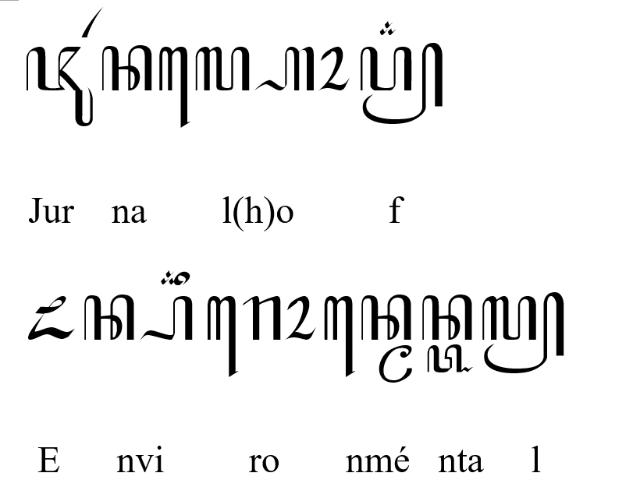-l: (481, 292, 565, 374)
-p: (359, 42, 443, 126)
E: (27, 296, 75, 340)
_h: (253, 46, 314, 92)
_m: (378, 344, 412, 383)
_p: (141, 296, 193, 342)
_r1: (81, 6, 103, 38)
_t: (426, 344, 474, 374)
alt: (379, 20, 397, 36), (160, 270, 177, 286)
e1: (158, 45, 192, 129), (207, 296, 239, 378), (324, 296, 356, 378)
i: (174, 271, 190, 287)
ju: (26, 48, 92, 126)
l: (196, 46, 250, 91)
n: (83, 293, 135, 341), (421, 294, 472, 342), (360, 295, 412, 341), (101, 45, 152, 91)
o: (318, 47, 350, 91), (286, 296, 316, 340)
r: (243, 296, 281, 342)
